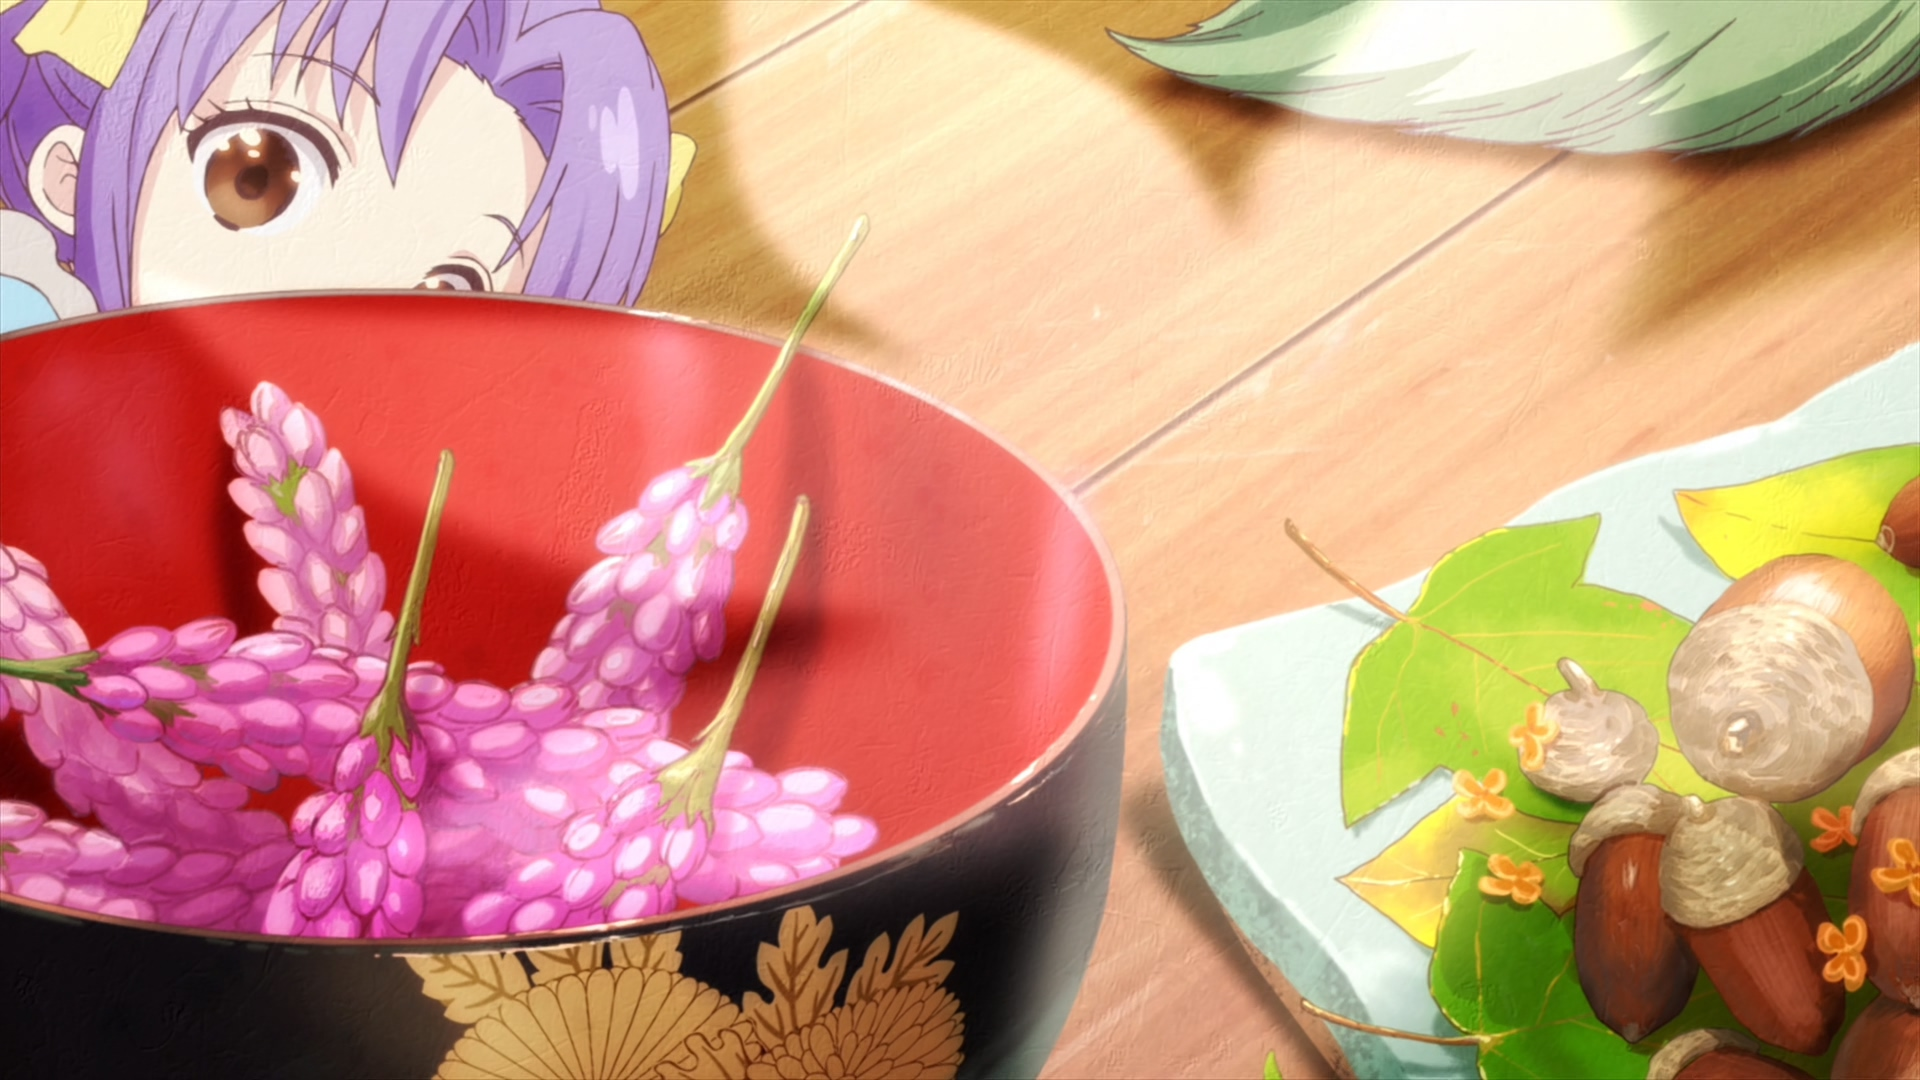阿菊: (1, 1, 696, 331)
